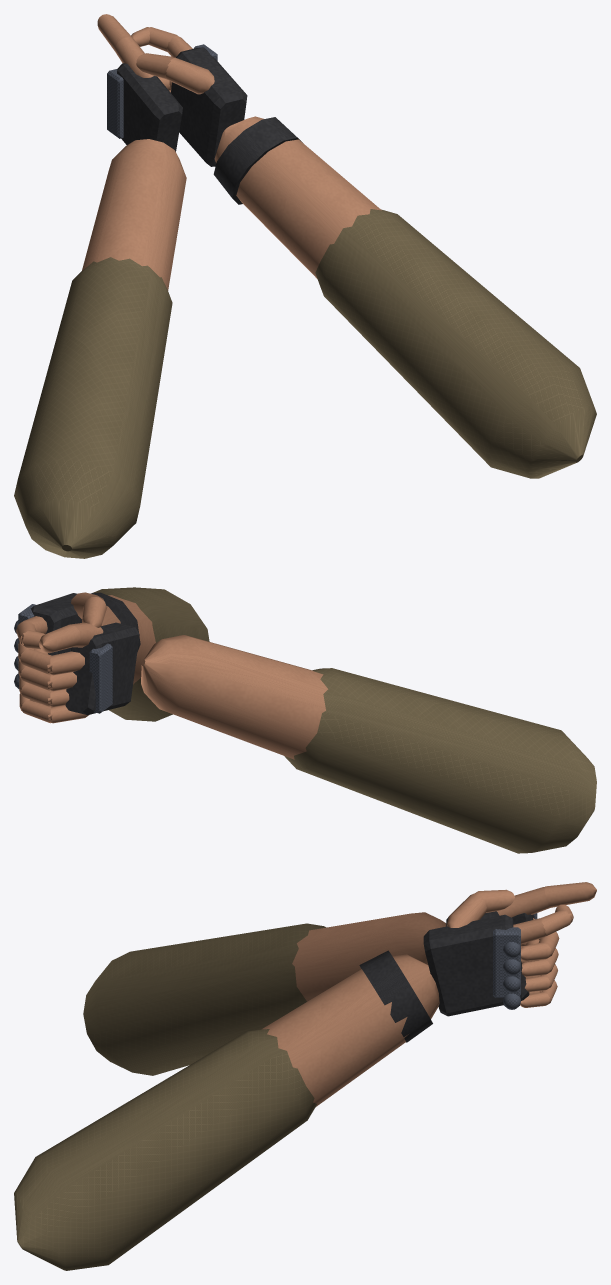
The model's file is fp_hands_t_pistol.glb.
3 views of the same model, one above another, from view 1: azimuth 30°, elevation 25°; view 2: azimuth 150°, elevation 25°; view 3: azimuth 270°, elevation 25° (orthographic). The views are drawn at different scales.
Visible parts, largest first — view 1: WeaponRoot; view 2: WeaponRoot; view 3: WeaponRoot.
Part boxes in pixels (<box>): WeaponRoot: <box>14,14,596,558</box>; WeaponRoot: <box>14,587,596,853</box>; WeaponRoot: <box>14,882,596,1270</box>.
Size of the model in its own units: 0.4745 by 0.2654 by 0.4611.
4 materials, 4 textured.
